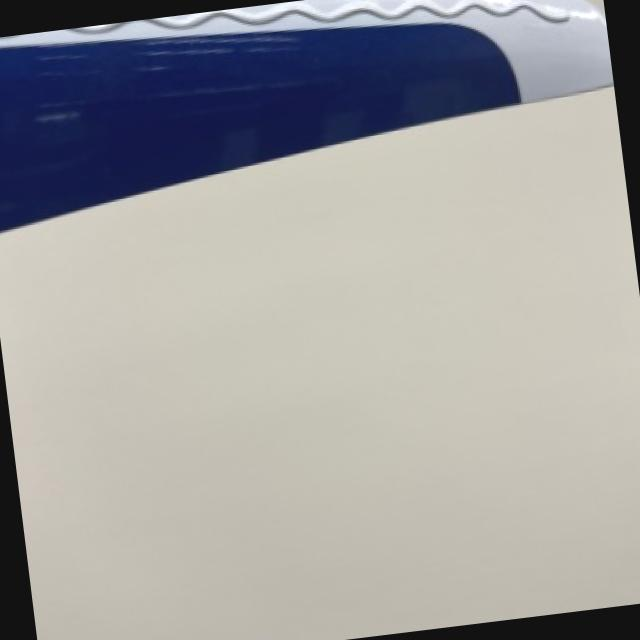healthy: (0, 0, 640, 640), (0, 0, 611, 228)
